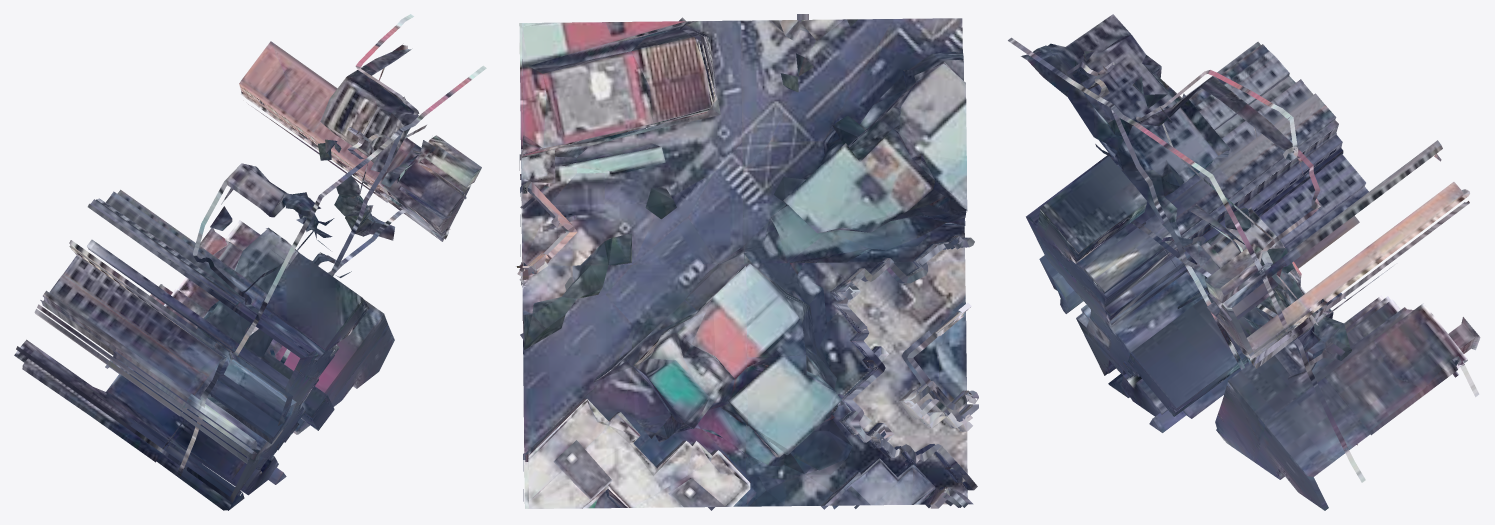
3 renders of one model, left to right at view 1: azimuth 30°, elevation 25°; view 2: azimuth 150°, elevation 25°; view 3: azimuth 270°, elevation 25°, orthographic. The views are drawn at different scales.
Size of the model in its own units: 95.9 by 83.07 by 85.56.
Materials: 2 (2 with a texture image).
